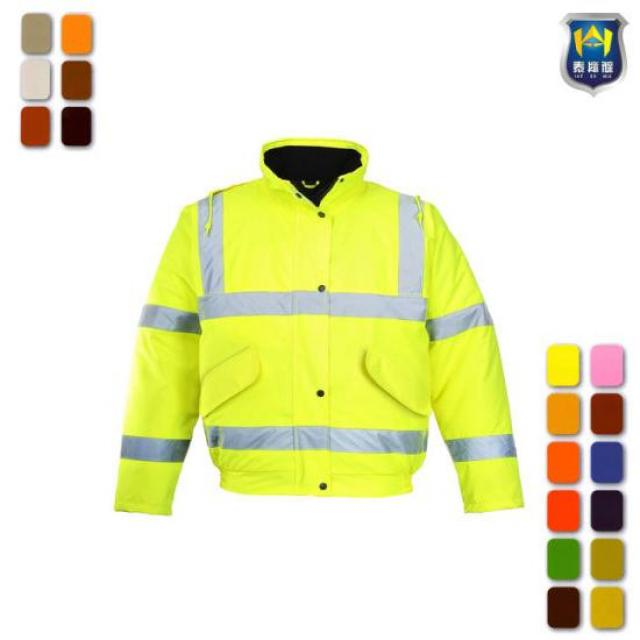Reflective-Jacket: (96, 170, 538, 520)
